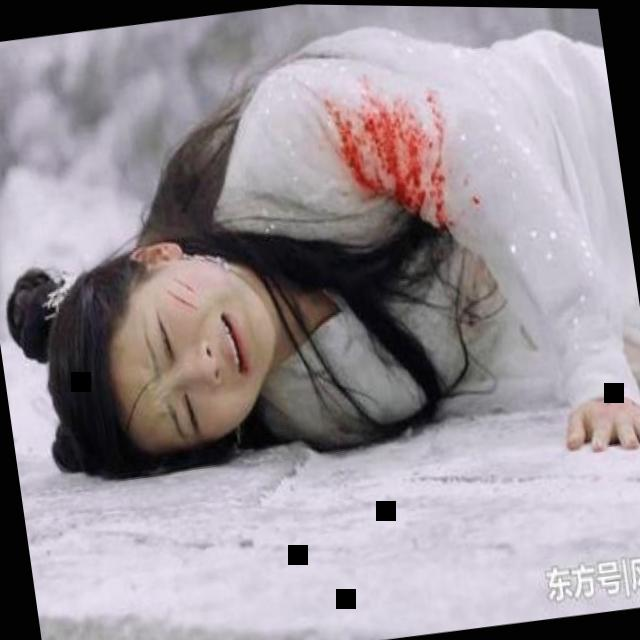Fall-Detected: (0, 0, 640, 527)
